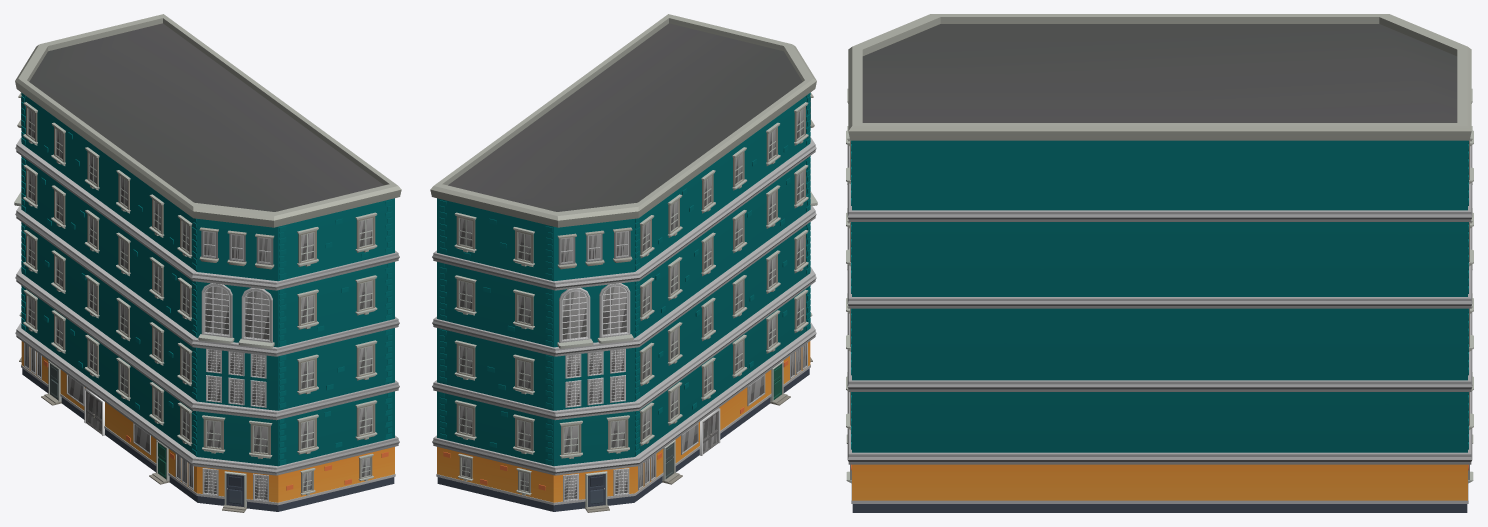
File: Building_25_5_G.glb
3 views of the same model, side by side, from view 1: azimuth 30°, elevation 25°; view 2: azimuth 150°, elevation 25°; view 3: azimuth 270°, elevation 25° (orthographic). The views are drawn at different scales.
Parts seen in each view (by area): view 1: Building_25_5_G; view 2: Building_25_5_G; view 3: Building_25_5_G.
Part boxes in pixels (x1,y1,x2,y2): Building_25_5_G: (14, 14, 401, 512); Building_25_5_G: (430, 14, 817, 512); Building_25_5_G: (846, 14, 1473, 512).
Bounding box in the file's own units: 12.91 × 20.14 × 29.41.
Materials: 3 (3 with a texture image).
